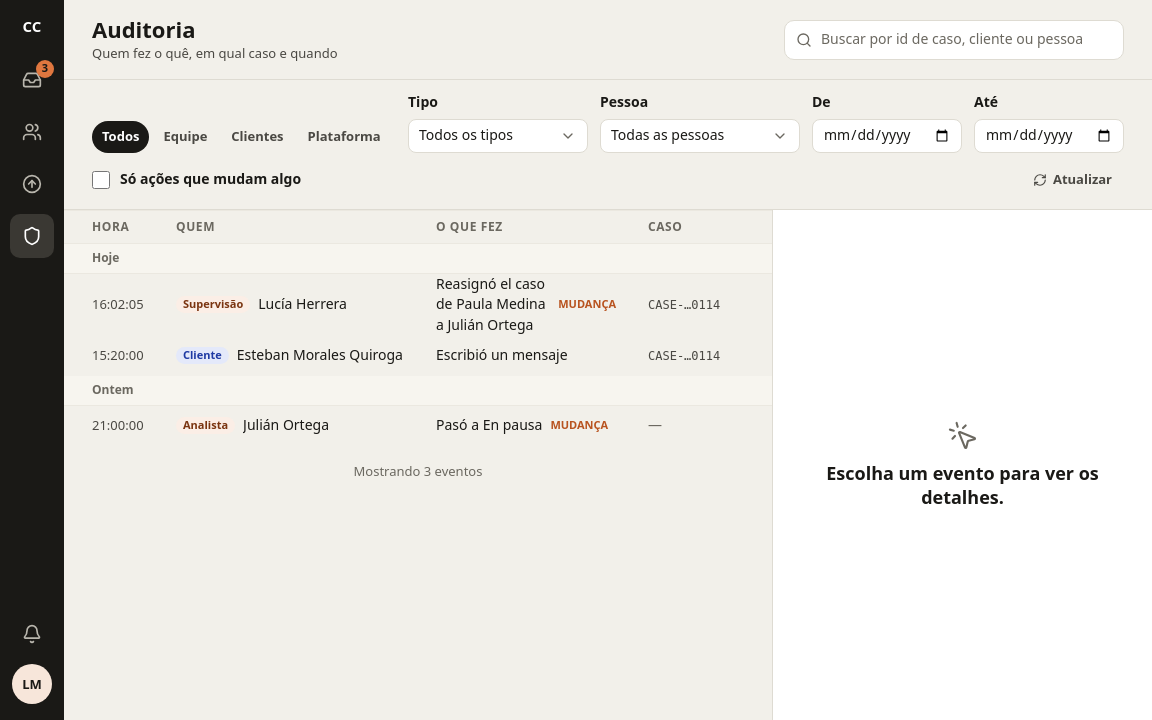
Test: Auditoria in Brazilian Portuguese › shows the log, its filters and an event detail in pt-BR
Check: the heading "Auditoria" is shown, box [92, 14, 195, 44]
Check: the text "Quem fez o quê, em qual caso e quando" is shown, box [92, 44, 338, 63]
Step 1. Click the button "Reasignó el caso de Paula Medina a Julián Ortega MUDANÇA" → (526, 305), box [436, 274, 616, 335]
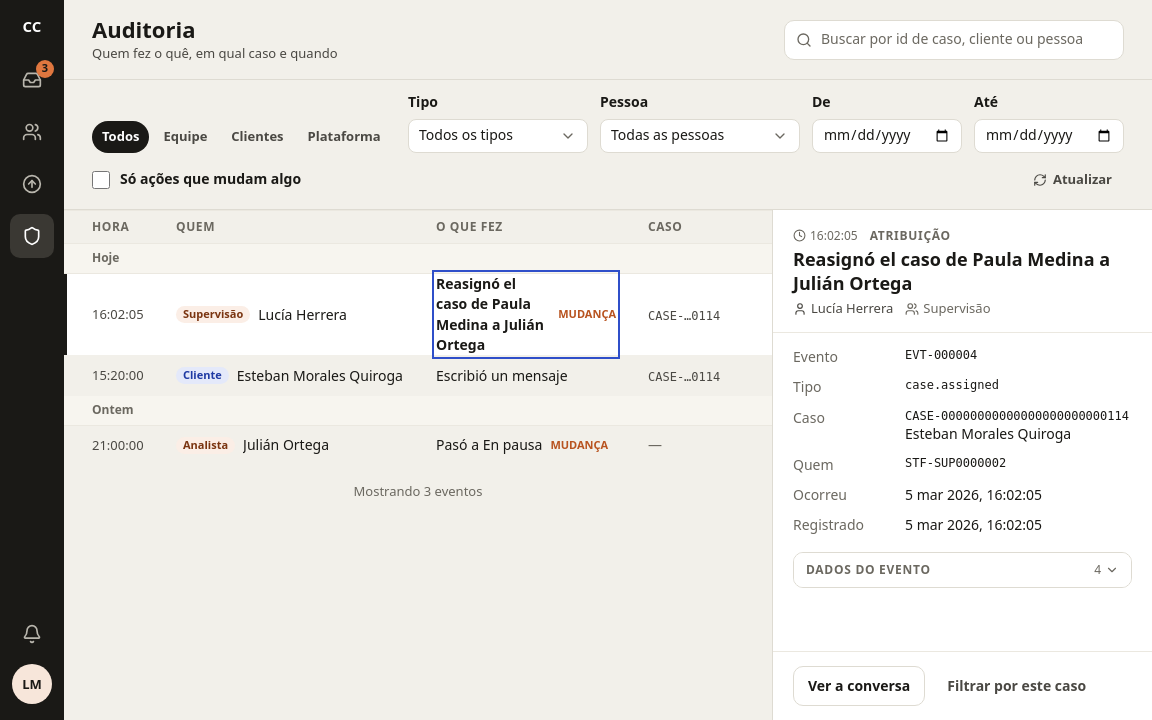
Check: the text "ATRIBUIÇÃO" is shown, box [870, 228, 951, 244]
Check: the text "Ocorreu" is shown, box [793, 485, 847, 504]
Check: the button "Dados do evento 4" is shown, box [794, 552, 1131, 587]
Step 2. Click the button "Filtrar por este caso" → (1017, 686), box [933, 666, 1100, 706]
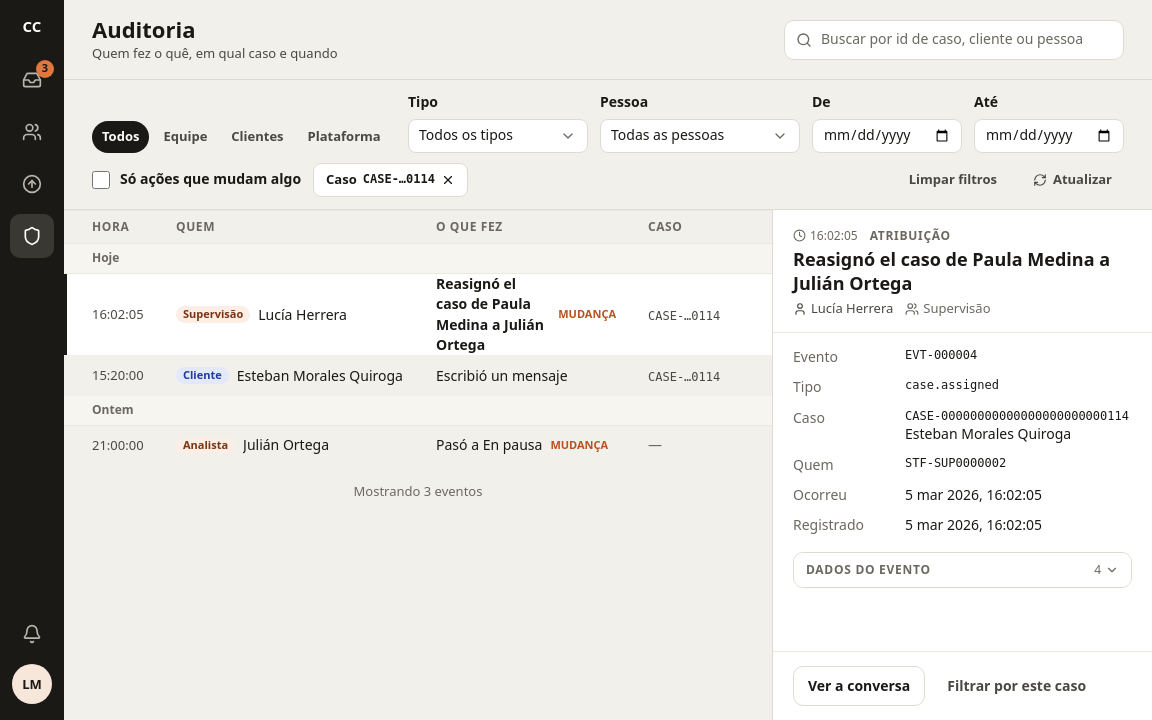
Check: the button "Limpar filtros" is shown, box [897, 162, 1009, 196]
